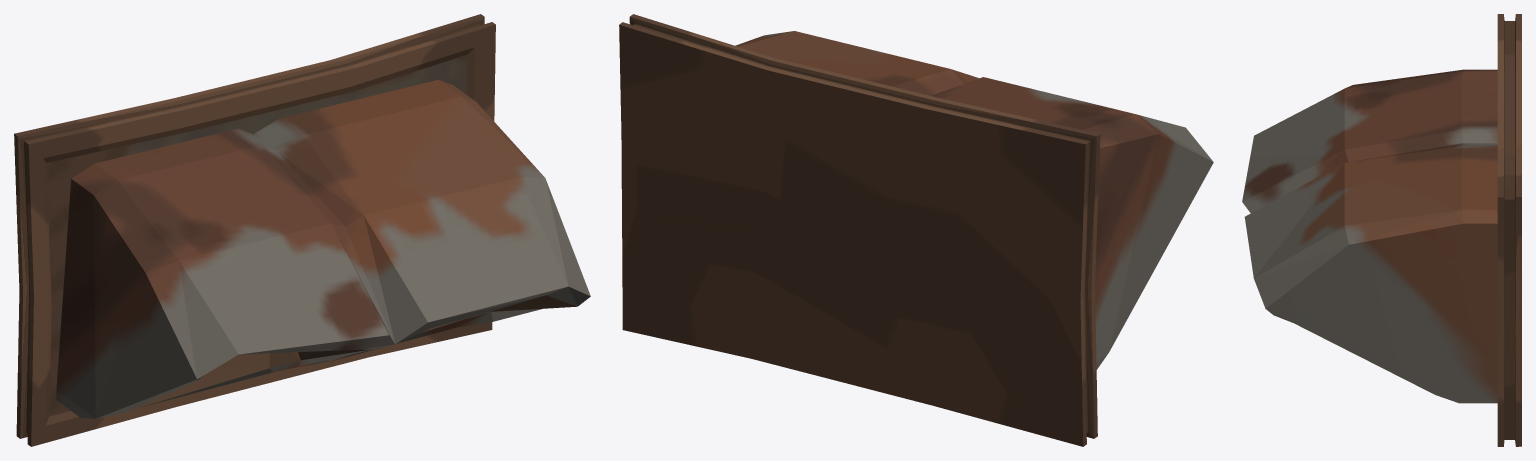
File: SM_Prop_Greeble_Vent_03.obj
The picture shows the model from 3 angles, left to right: view 1: azimuth 30°, elevation 25°; view 2: azimuth 150°, elevation 25°; view 3: azimuth 270°, elevation 25°; orthographic projection. The views are drawn at different scales.
Parts seen in each view (by area): view 1: SM_Prop_Greeble_Vent_03_0; view 2: SM_Prop_Greeble_Vent_03_0; view 3: SM_Prop_Greeble_Vent_03_0.
Part boxes in pixels (x1,y1,x2,y2): SM_Prop_Greeble_Vent_03_0: (14,14,590,446); SM_Prop_Greeble_Vent_03_0: (619,14,1213,446); SM_Prop_Greeble_Vent_03_0: (1242,14,1521,446).
Size of the model in its own units: 1.48 by 0.9383 by 0.9335.
1 material, 1 textured.
